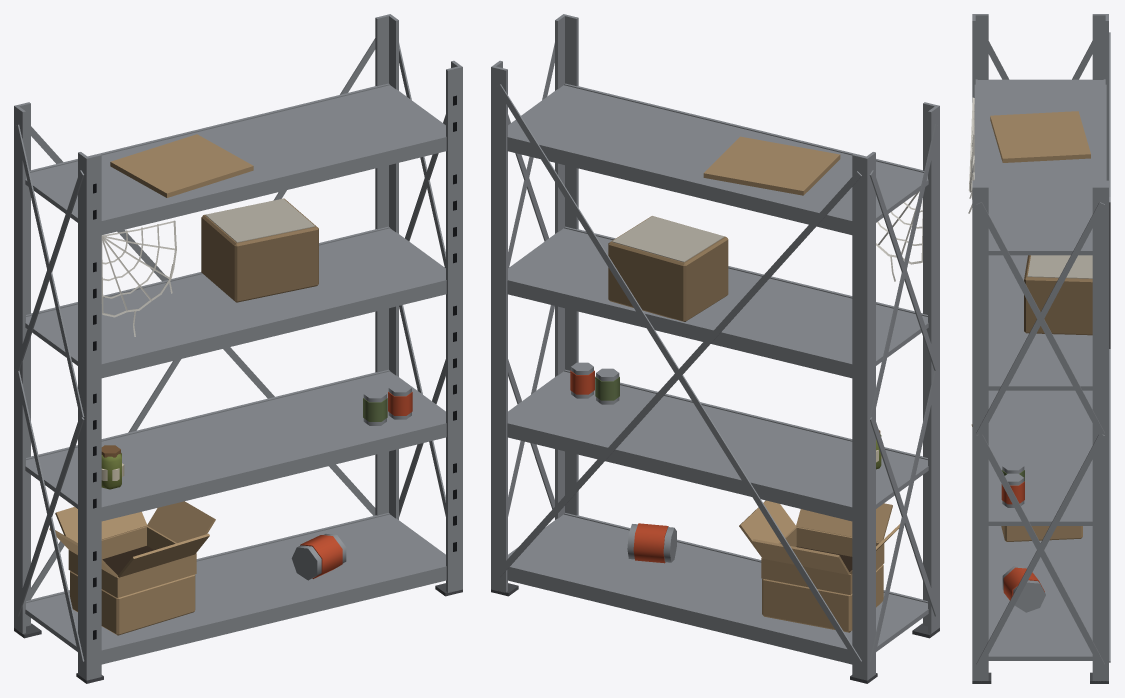
File: Basement_MetalShelfSparse.fbx
3 views of the same model, side by side, from view 1: azimuth 30°, elevation 25°; view 2: azimuth 150°, elevation 25°; view 3: azimuth 270°, elevation 25° (orthographic). The views are drawn at different scales.
Parts seen in each view (by area): view 1: Steel, Boxes, BoxesDark, Dust, Cobweb, TinMetal, LabelRed, Slots; view 2: Steel, Boxes, BoxesDark, Dust, LabelRed, TinMetal; view 3: Steel, Boxes, BoxesDark, Dust, TinMetal, LabelRed, Cobweb.
Part boxes in pixels (x1,y1,x2,y2): Steel: (14,14,462,680); Boxes: (49,134,253,635); BoxesDark: (201,198,318,302); Dust: (205,198,315,242); Cobweb: (101,220,176,336); TinMetal: (291,383,411,580); LabelRed: (300,392,412,578); Slots: (93,95,456,639); Steel: (491,14,939,680); Boxes: (703,136,899,632); BoxesDark: (608,216,728,321); Dust: (612,216,724,262); LabelRed: (570,370,668,563); TinMetal: (571,362,676,562); Steel: (972,14,1110,681); Boxes: (971,111,1090,541); BoxesDark: (1024,255,1092,335); Dust: (1027,255,1092,278); TinMetal: (1002,462,1045,612); LabelRed: (1001,481,1044,600); Cobweb: (968,97,974,213).
Bounding box in the file's own units: 604 × 800 × 208.
